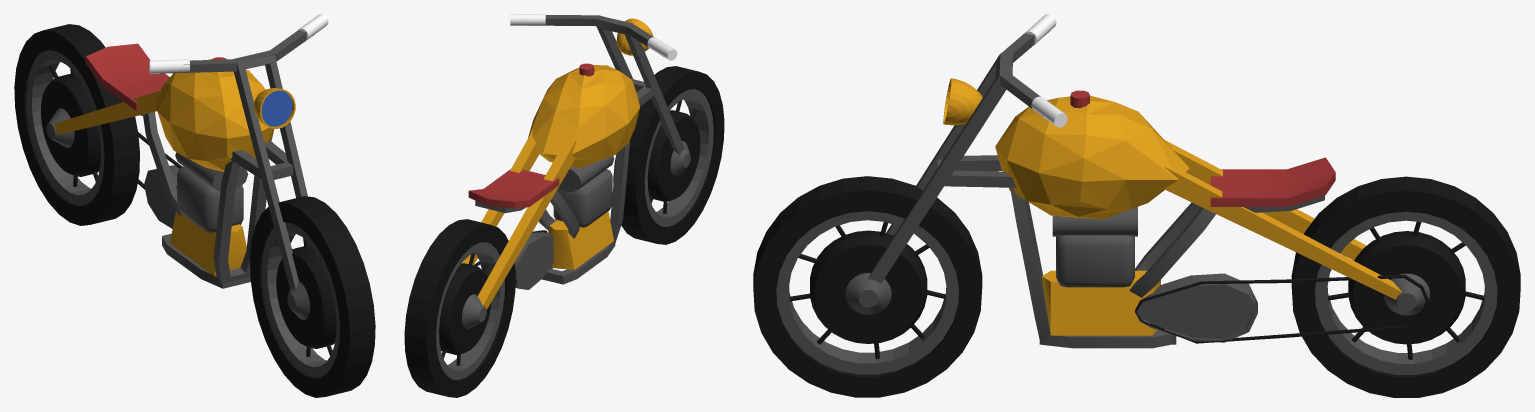
Rendered from boda.glb.
3 views of the same model, side by side, from view 1: azimuth 30°, elevation 25°; view 2: azimuth 150°, elevation 25°; view 3: azimuth 270°, elevation 25° (orthographic). The views are drawn at different scales.
Parts seen in each view (by area): view 1: Tube004; view 2: Tube004; view 3: Tube004.
Part boxes in pixels (<box>): Tube004: <box>14,14,375,397</box>; Tube004: <box>404,14,724,397</box>; Tube004: <box>753,14,1520,397</box>.
Bounding box in the file's own units: 15.76 × 23.71 × 49.97.
